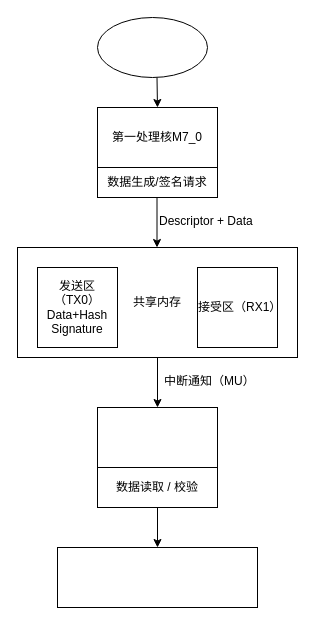
Image size: 315x625. Some labels were removed from this diagram. The centre of each missing label's shape, as x and y in pixels:
"开始" belongs at (152,47).
"硬件安全引擎（HSE） 1 - Hash计算 2 - 签名验证" belongs at (157,577).
"第二处理核M7_1" belongs at (157,437).
